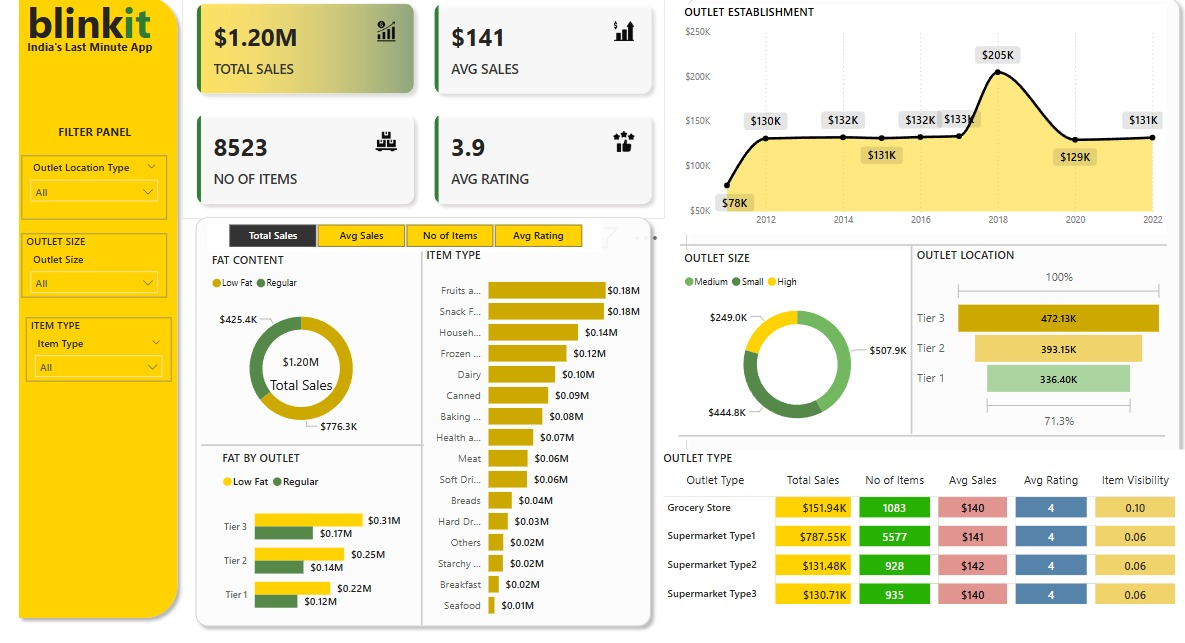

This screenshot's page, from the dashboard's own definition file:
{"tool":"powerbi","page":{"name":"Page 1","canvas":[1400,800],"ordinal":0},"visuals":[{"type":"shape","box":[11.7,0,205,788.3],"z":0},{"type":"textbox","box":[28.3,36.7,170,83.3],"z":1000},{"type":"cardVisual","fields":{"Data":["BlinkIT Grocery Data.Total Sales","BlinkIT Grocery Data.Avg sales","BlinkIT Grocery Data.Avg Rating","BlinkIT Grocery Data.No of Items"]},"box":[215,18,658,250],"z":2000},{"type":"shape","title":"Fat ","box":[230,284,644,516],"z":3000},{"type":"donutChart","title":"FAT CONTENT","fields":{"Y":["BlinkIT Grocery Data.Total Sales"],"Category":["BlinkIT Grocery Data.Item Fat Content"]},"box":[230,303.3,296.7,223.3],"z":4000},{"type":"slicer","fields":{"Values":["Matrix.Matrix"]},"box":[294,264,466,40],"z":5000},{"type":"clusteredBarChart","title":"FAT By OUTLET","fields":{"Y":["BlinkIT Grocery Data.Total Sales"],"Category":["BlinkIT Grocery Data.Outlet Location Type"],"Series":["BlinkIT Grocery Data.Item Fat Content"]},"box":[216.7,526.7,285,261.7],"z":6000},{"type":"shape","box":[216,476,286,102],"z":7000},{"type":"shape","box":[520,283.3,16.7,516.7],"z":8000},{"type":"barChart","title":"ITEM TYPE","fields":{"Y":["BlinkIT Grocery Data.Total Sales"],"Category":["BlinkIT Grocery Data.Item Type"]},"box":[528,304,346,496],"z":9000},{"type":"shape","box":[884,18,516,782],"z":10000},{"type":"lineChart","title":"OUTLET ESTABLISHMENT","fields":{"Category":["BlinkIT Grocery Data.Outlet Establishment Year"],"Y":["BlinkIT Grocery Data.Total Sales"]},"box":[896.7,26.7,491.7,236.7],"z":11000},{"type":"donutChart","title":"OUTLET SIZE","fields":{"Y":["BlinkIT Grocery Data.Total Sales"],"Category":["BlinkIT Grocery Data.Outlet Size"]},"box":[896.7,283.3,236.7,268.3],"z":11001},{"type":"shape","box":[1133.3,271.7,21.7,516.7],"z":11002},{"type":"funnel","title":"OUTLET LOCATION","fields":{"Y":["Sum(BlinkIT Grocery Data.Sales)"],"Category":["BlinkIT Grocery Data.Outlet Location Type"]},"box":[1133.3,283.3,255,273.3],"z":11003},{"type":"shape","box":[896.7,570,491.7,8.3],"z":11004},{"type":"pivotTable","title":"OUTLET TYPE","fields":{"Rows":["BlinkIT Grocery Data.Outlet Type"],"Values":["BlinkIT Grocery Data.Total Sales","BlinkIT Grocery Data.Avg sales","BlinkIT Grocery Data.Avg Rating","BlinkIT Grocery Data.No of Items","Avg(BlinkIT Grocery Data.Item Visibility)"]},"box":[895,578.3,491.7,210],"z":11005},{"type":"shape","box":[895,266.7,491.7,8.3],"z":11006},{"type":"slicer","fields":{"Values":["BlinkIT Grocery Data.Outlet Location Type"]},"box":[28.3,191.7,176.7,80],"z":11007},{"type":"slicer","fields":{"Values":["BlinkIT Grocery Data.Outlet Size"]},"box":[25,283.3,176.7,80],"z":11008},{"type":"slicer","fields":{"Values":["BlinkIT Grocery Data.Item Type"]},"box":[25,380,176.7,80],"z":11009}]}

Visuals, with their boxes on the page's 1400x800 design canvas (x1, y1, x2, y2). These are canvas units, not pixel positions in the 1185x643 screenshot, which may show the page scaled, cropped or inside an application window:
shape: box(12, 0, 217, 788)
textbox: box(28, 37, 198, 120)
cardVisual - BlinkIT Grocery Data.Total Sales x BlinkIT Grocery Data.Avg sales: box(215, 18, 873, 268)
"Fat " shape: box(230, 284, 874, 800)
"FAT CONTENT" donutChart: box(230, 303, 527, 527)
slicer - Matrix.Matrix: box(294, 264, 760, 304)
"FAT By OUTLET" clusteredBarChart: box(217, 527, 502, 788)
shape: box(216, 476, 502, 578)
shape: box(520, 283, 537, 800)
"ITEM TYPE" barChart: box(528, 304, 874, 800)
shape: box(884, 18, 1400, 800)
"OUTLET ESTABLISHMENT" lineChart: box(897, 27, 1388, 263)
"OUTLET SIZE" donutChart: box(897, 283, 1133, 552)
shape: box(1133, 272, 1155, 788)
"OUTLET LOCATION" funnel: box(1133, 283, 1388, 557)
shape: box(897, 570, 1388, 578)
"OUTLET TYPE" pivotTable: box(895, 578, 1387, 788)
shape: box(895, 267, 1387, 275)
slicer - BlinkIT Grocery Data.Outlet Location Type: box(28, 192, 205, 272)
slicer - BlinkIT Grocery Data.Outlet Size: box(25, 283, 202, 363)
slicer - BlinkIT Grocery Data.Item Type: box(25, 380, 202, 460)
